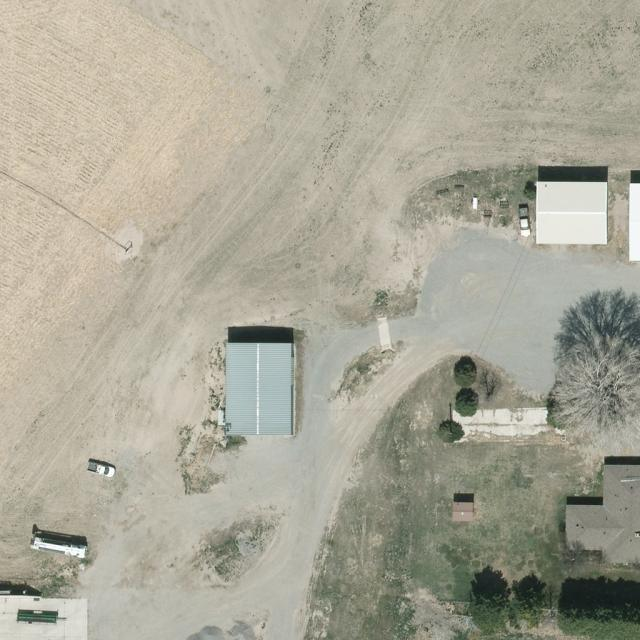vehicle: (85, 460, 116, 480), (518, 208, 532, 236)
